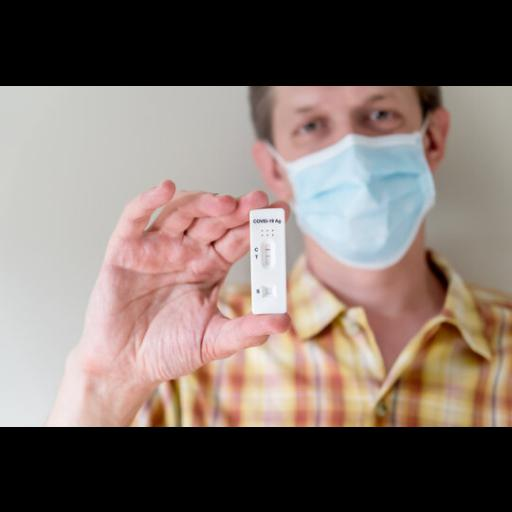Pos: (250, 208, 286, 314)
